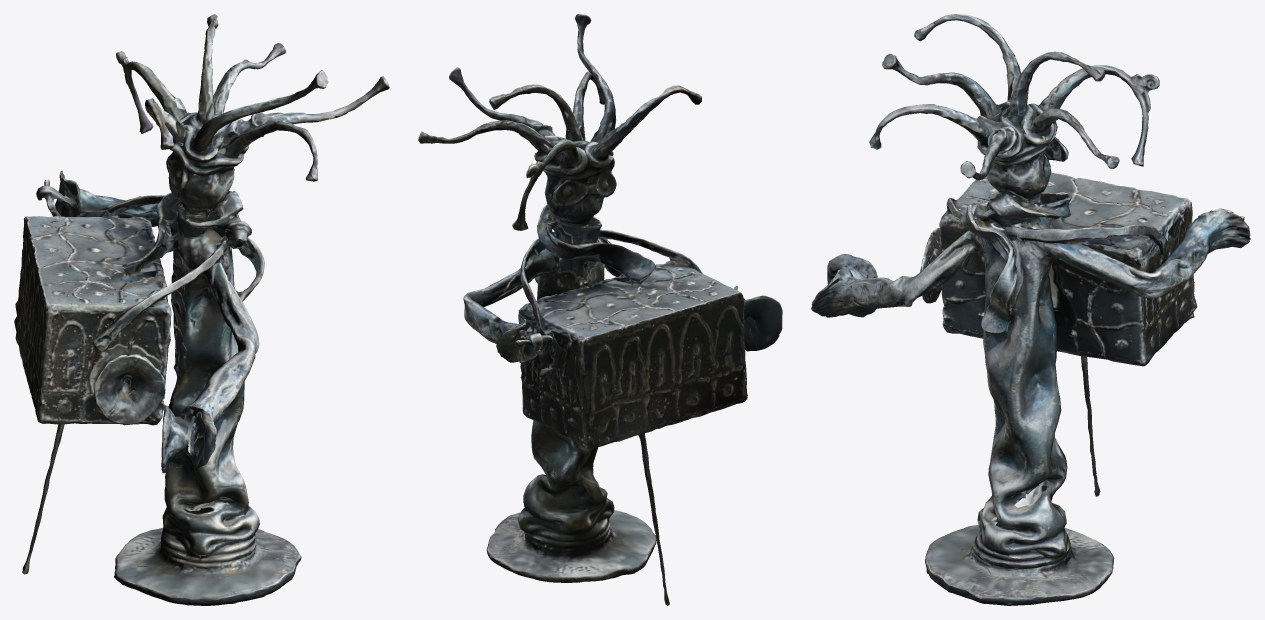
File: boombox.glb
The picture shows the model from 3 angles, left to right: view 1: azimuth 30°, elevation 25°; view 2: azimuth 150°, elevation 25°; view 3: azimuth 270°, elevation 25°; orthographic projection. The views are drawn at different scales.
Parts seen in each view (by area): view 1: compressed; view 2: compressed; view 3: compressed.
Part boxes in pixels (x1,y1,x2,y2): compressed: (14,14,389,605); compressed: (418,14,782,605); compressed: (811,14,1250,605).
Bounding box in the file's own units: 0.4715 × 0.7027 × 0.5203.
1 material, 1 textured.
